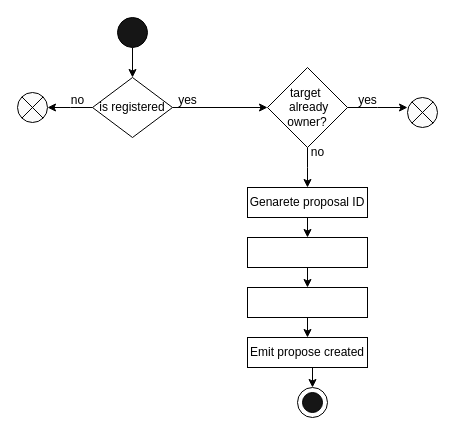
Some shapes in this 455 by 435 pixel diagram are drawn without their labels. Here are the shapes that lost their labels. From the top down, the centre of each, then its label:
the point at 307,252: Create proposal
the point at 307,302: Proposer approve
